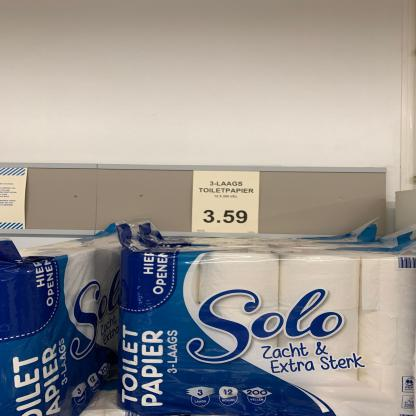prtg: (193, 172, 261, 234)
